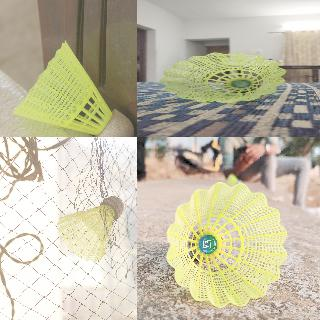shuttlecock: (165, 180, 288, 308), (11, 40, 133, 136), (159, 52, 286, 102), (56, 196, 124, 262)
